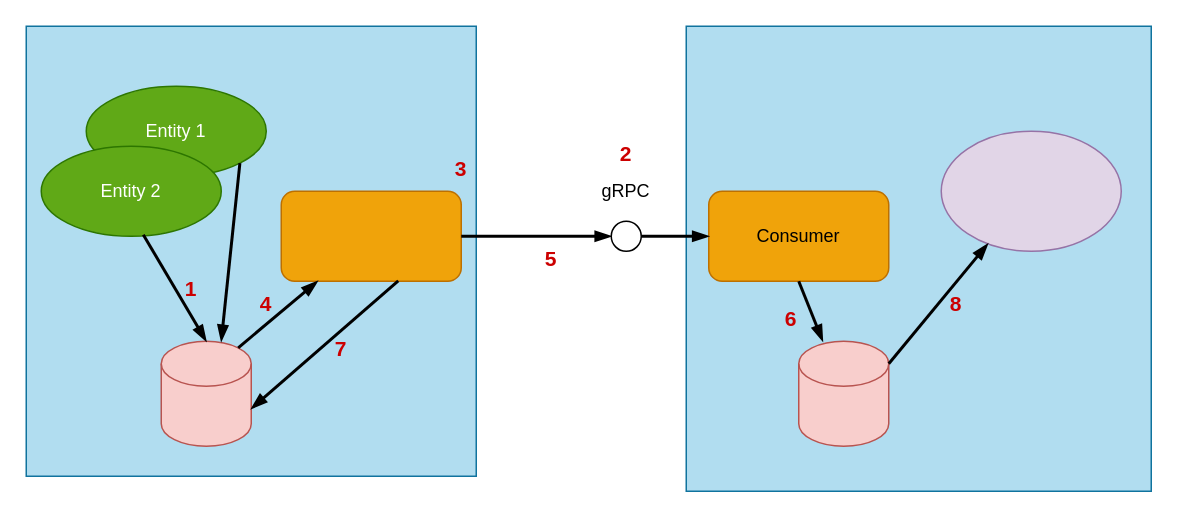
Some shapes in this 1178 by 518 pixel diagram are drawn without their labels. Each missing label, with the centre of its shape:
"Producer" belongs at point 370,235.
"Projection consuming events" belongs at point 1030,190.
